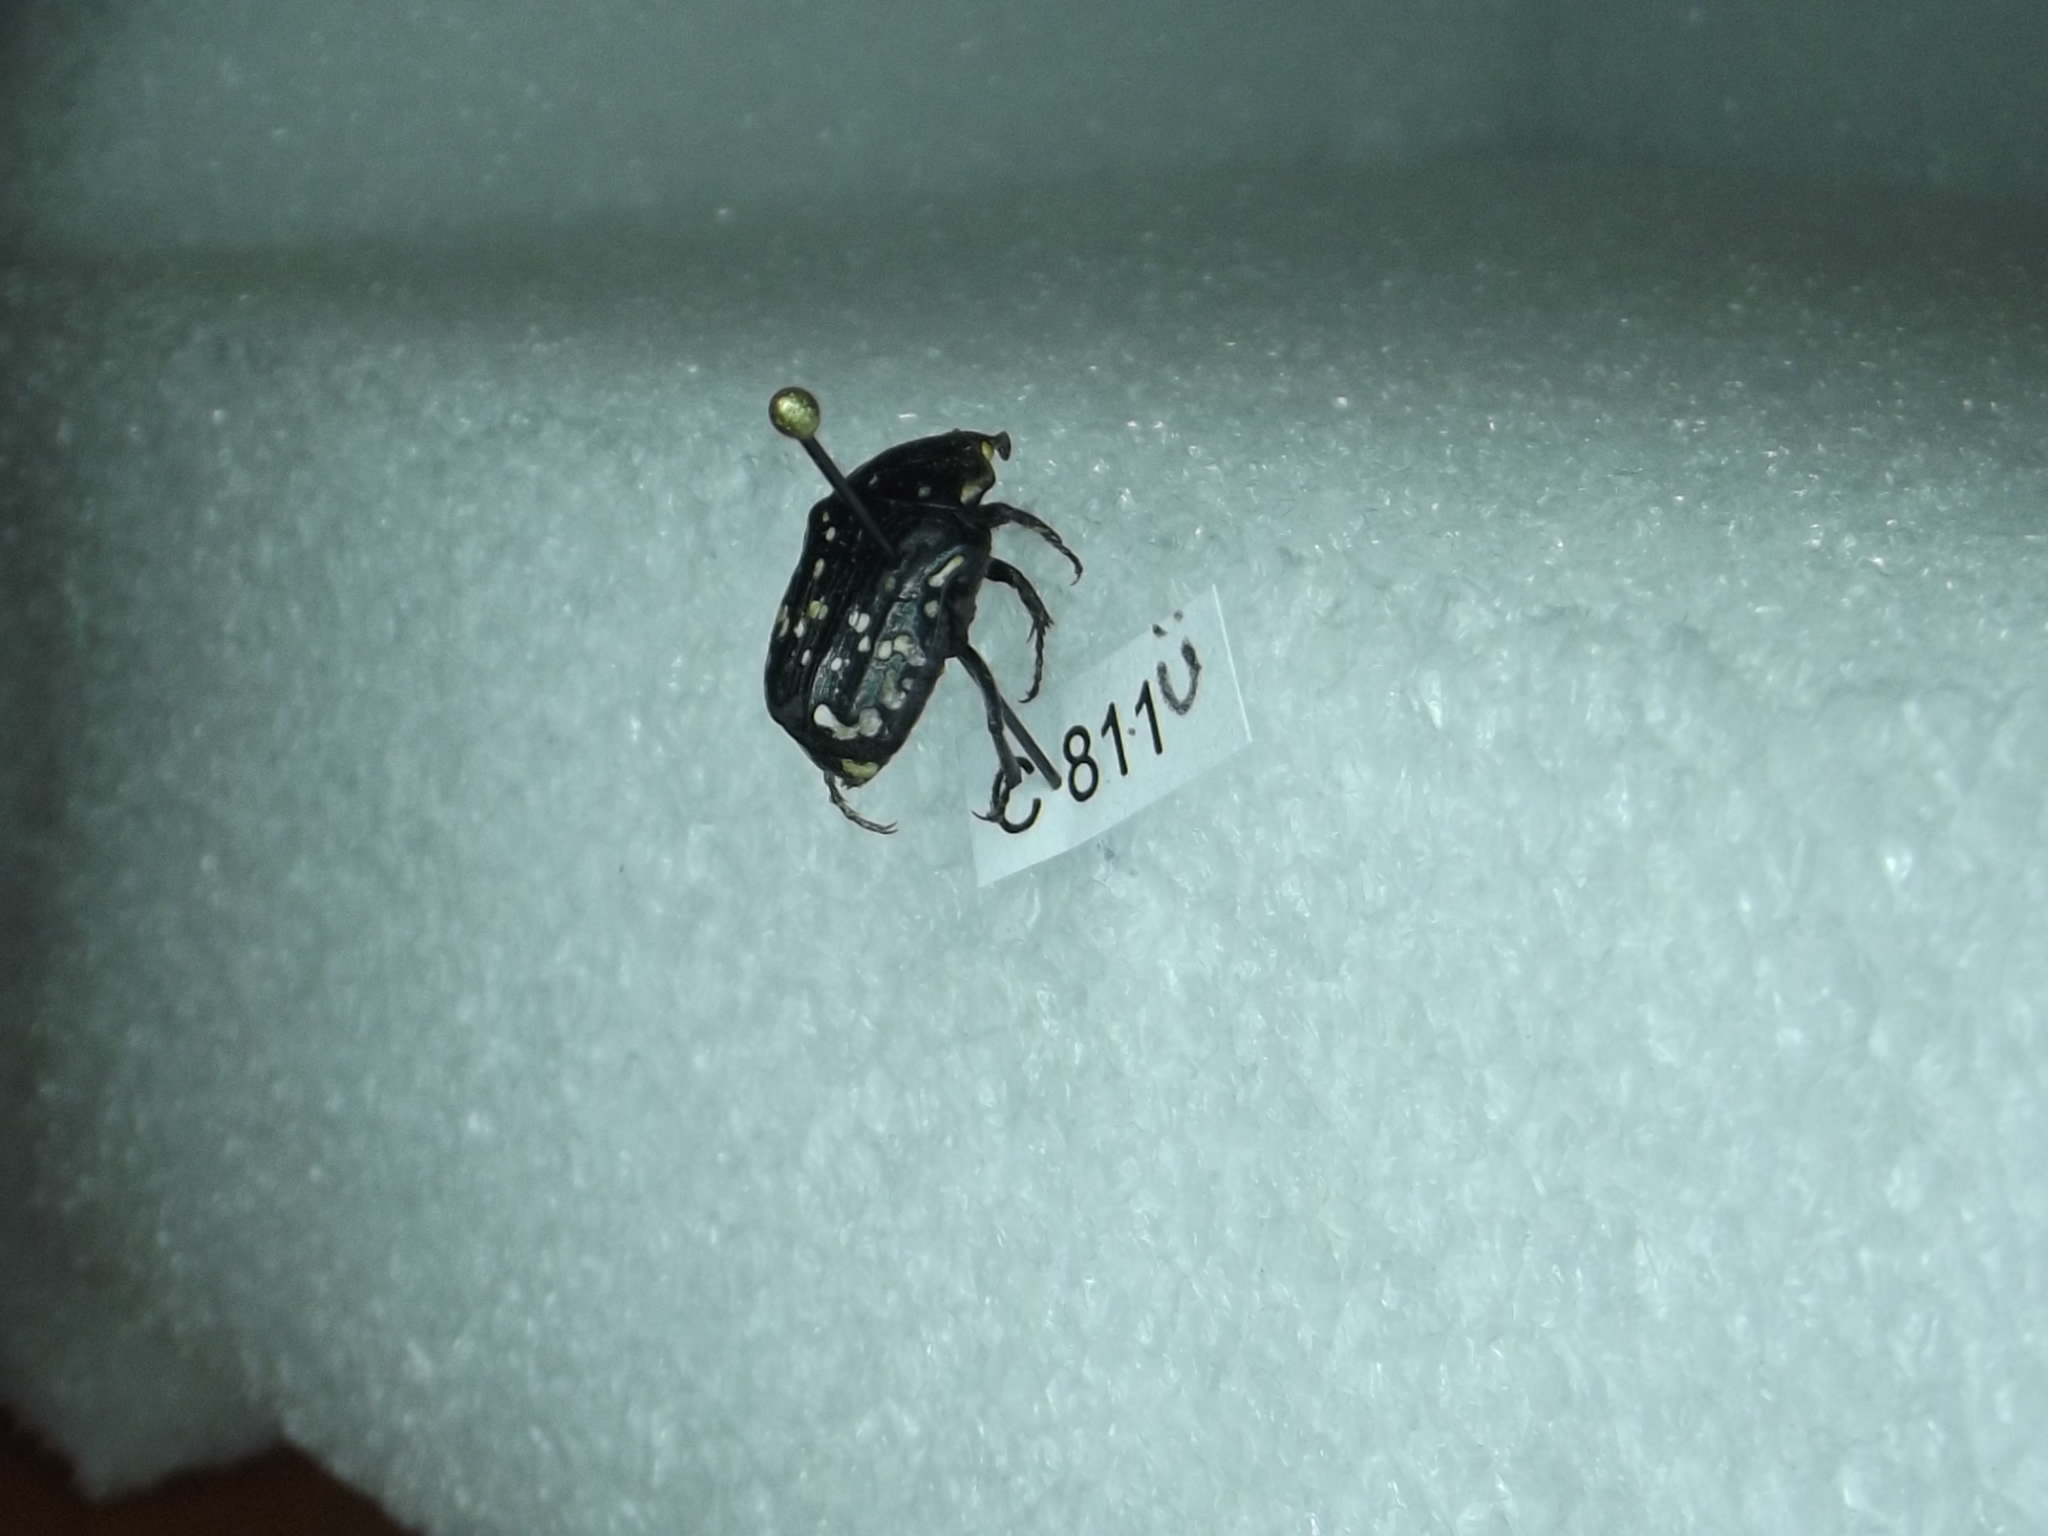Oxythyrea_albopicta: (753, 408, 1085, 841)
